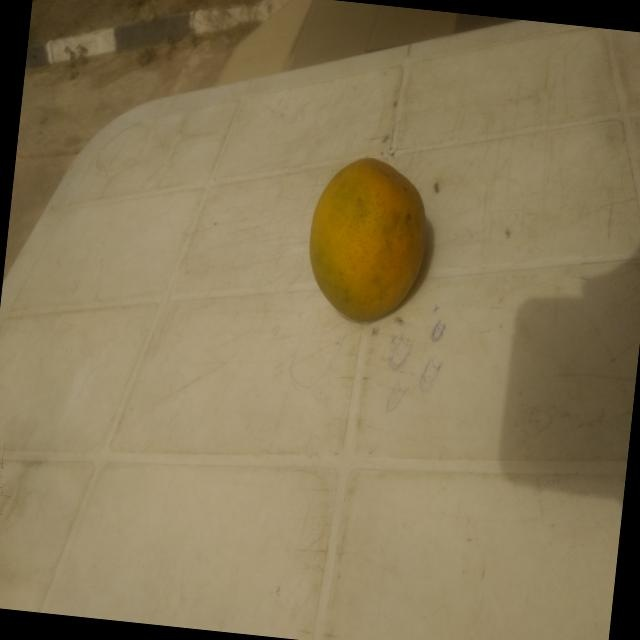agrume: (292, 132, 445, 352)
